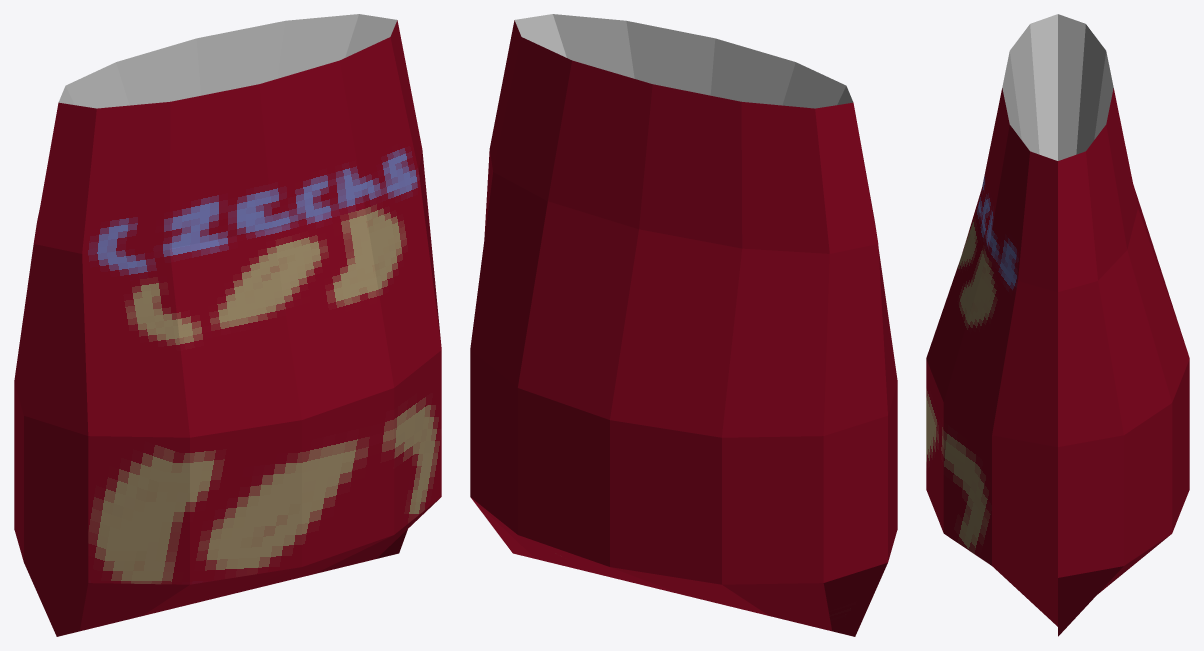
Rendered from ChipsOpen.fbx.
3 views of the same model, side by side, from view 1: azimuth 30°, elevation 25°; view 2: azimuth 150°, elevation 25°; view 3: azimuth 270°, elevation 25° (orthographic). The views are drawn at different scales.
Parts seen in each view (by area): view 1: ChipsOpen; view 2: ChipsOpen; view 3: ChipsOpen.
Boxes of the visible parts, x1=… form: ChipsOpen: x1=14, y1=14, x2=441, y2=636; ChipsOpen: x1=470, y1=14, x2=897, y2=636; ChipsOpen: x1=926, y1=14, x2=1189, y2=636.
Bounding box in the file's own units: 21.84 × 27.3 × 13.73.
Materials: 1 (1 with a texture image).
